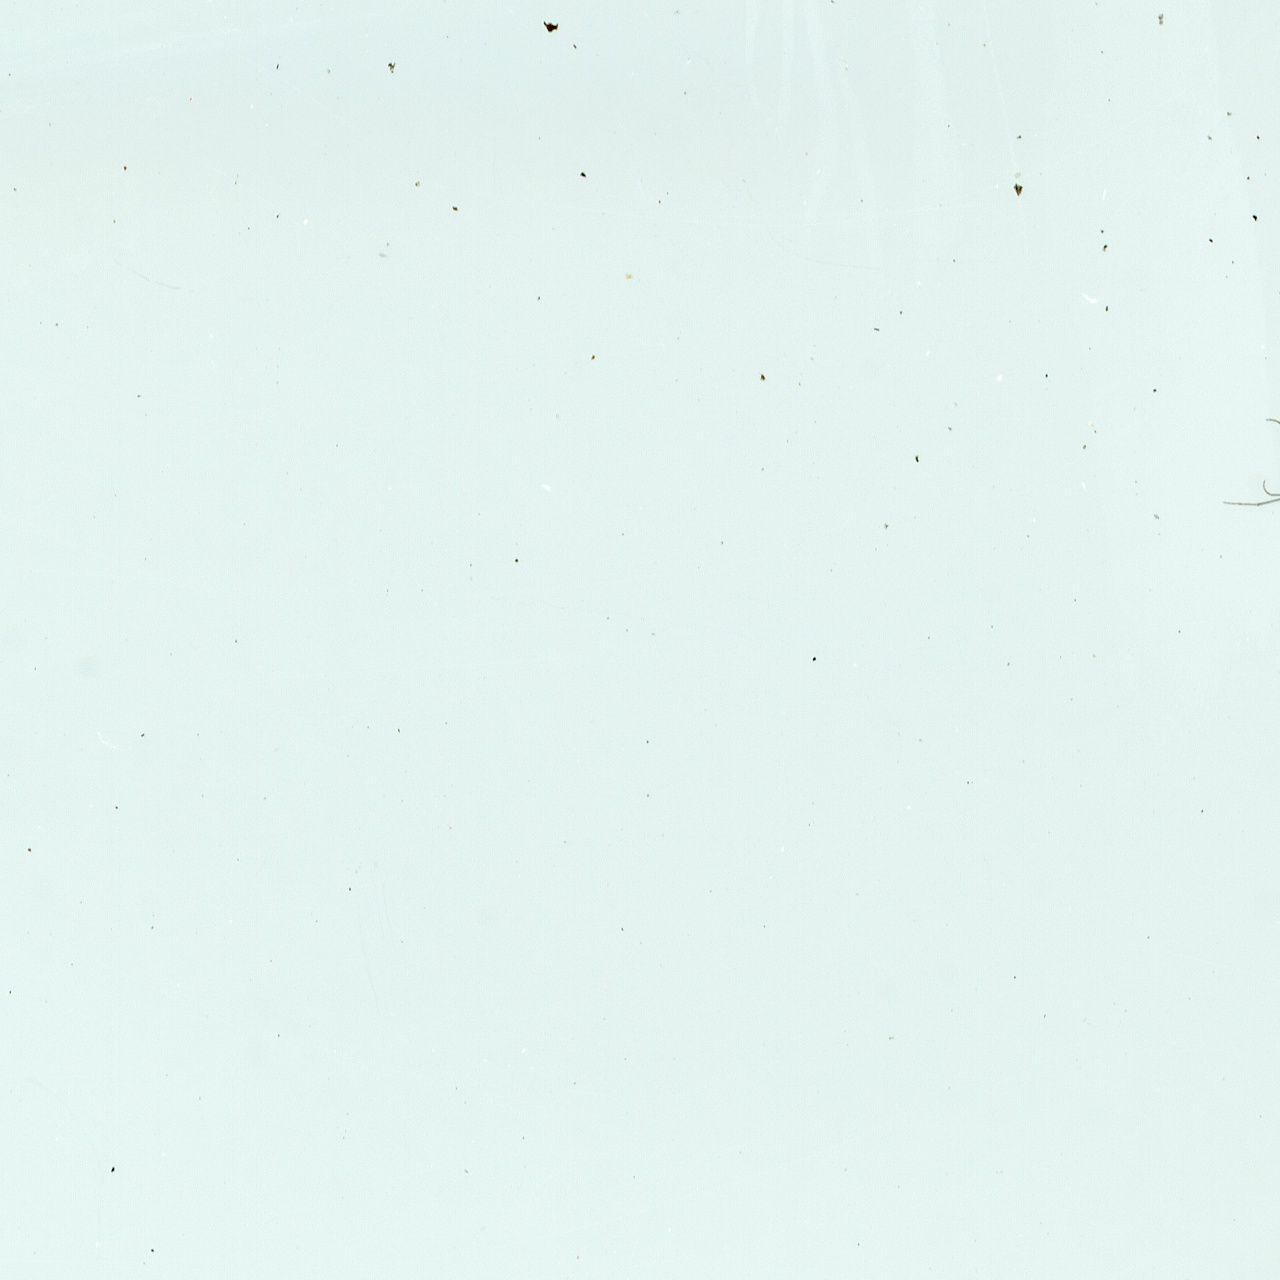arthropod: (1231, 403, 1280, 545)
